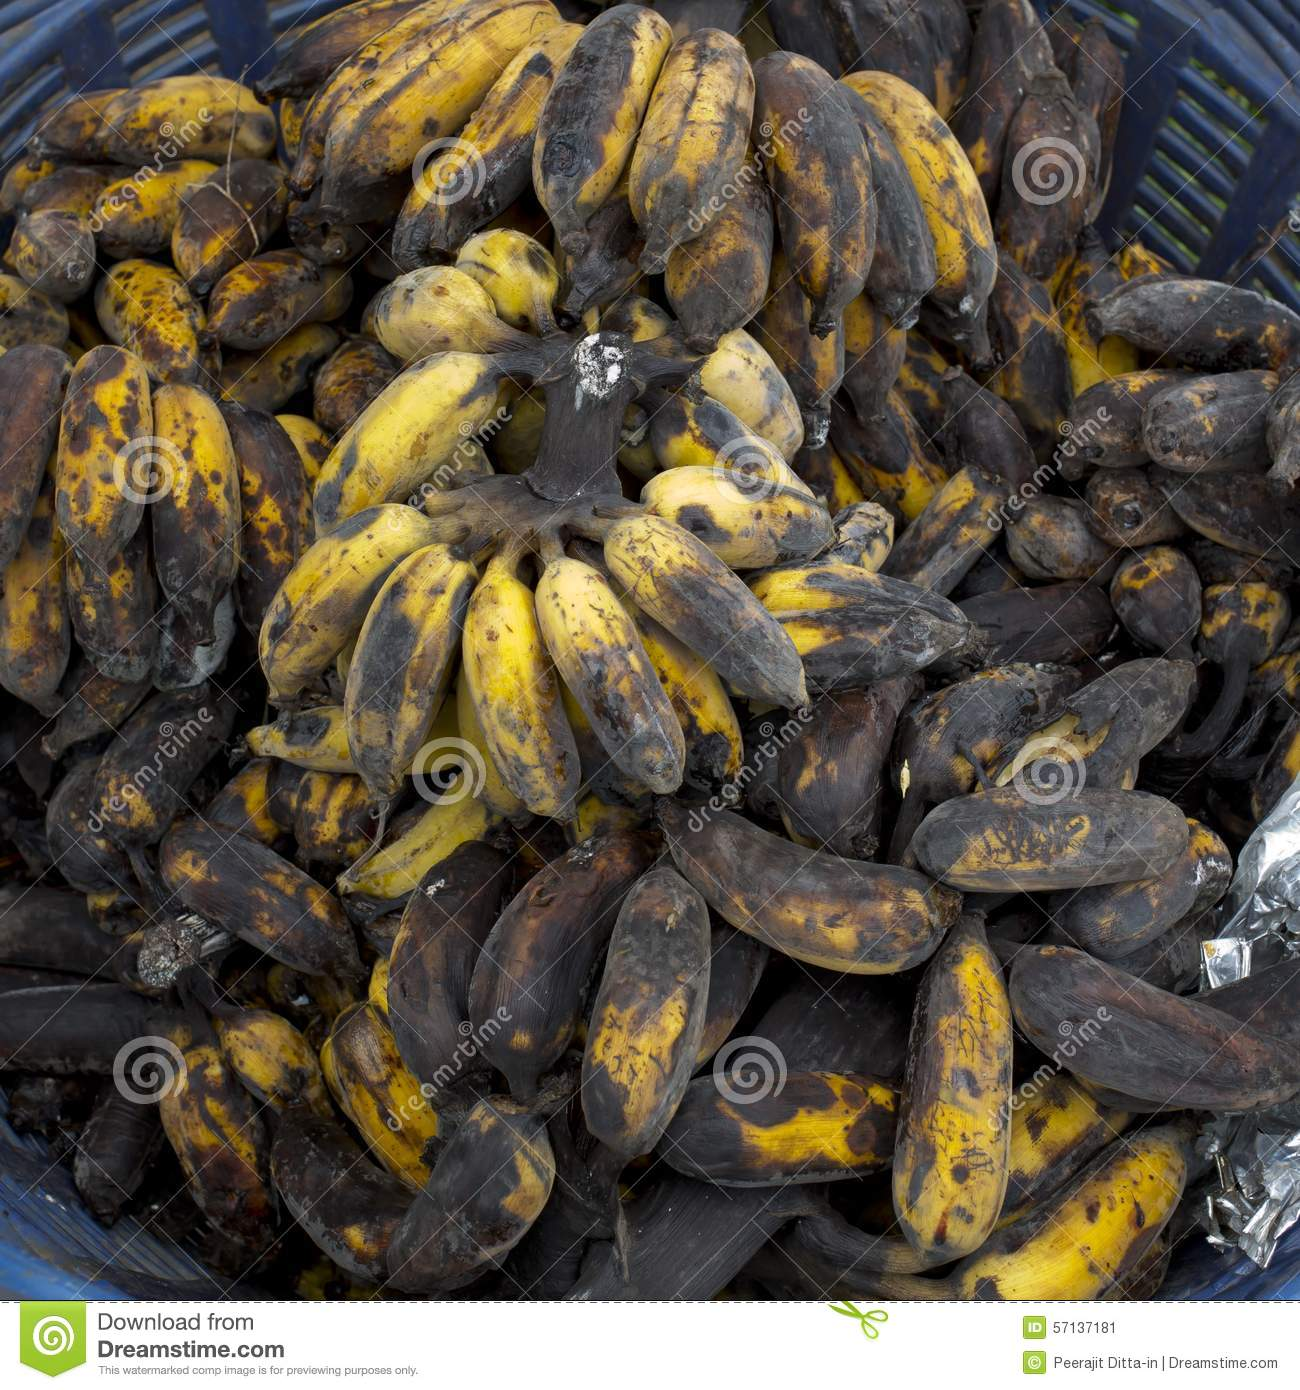looks_defective: (134, 126, 1162, 1239)
